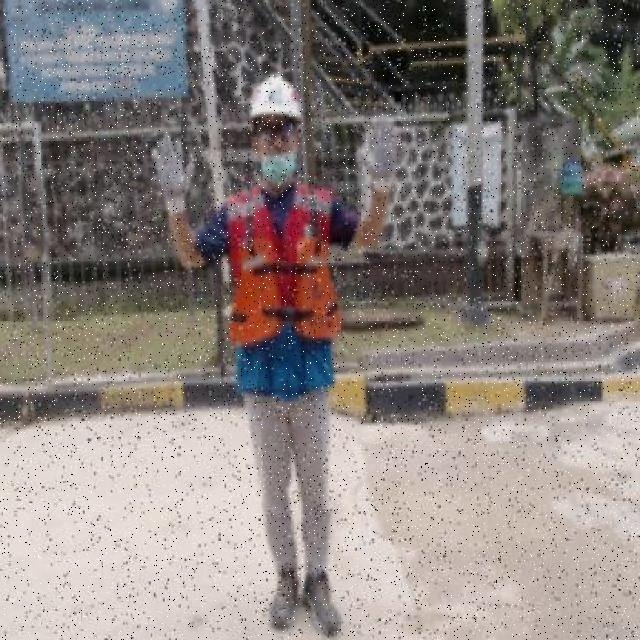Boots: (304, 563, 347, 634), (264, 565, 302, 630)
Gloves: (146, 132, 197, 212), (354, 115, 404, 196)
Helmet: (240, 76, 312, 129)
Mask: (228, 184, 344, 390)
